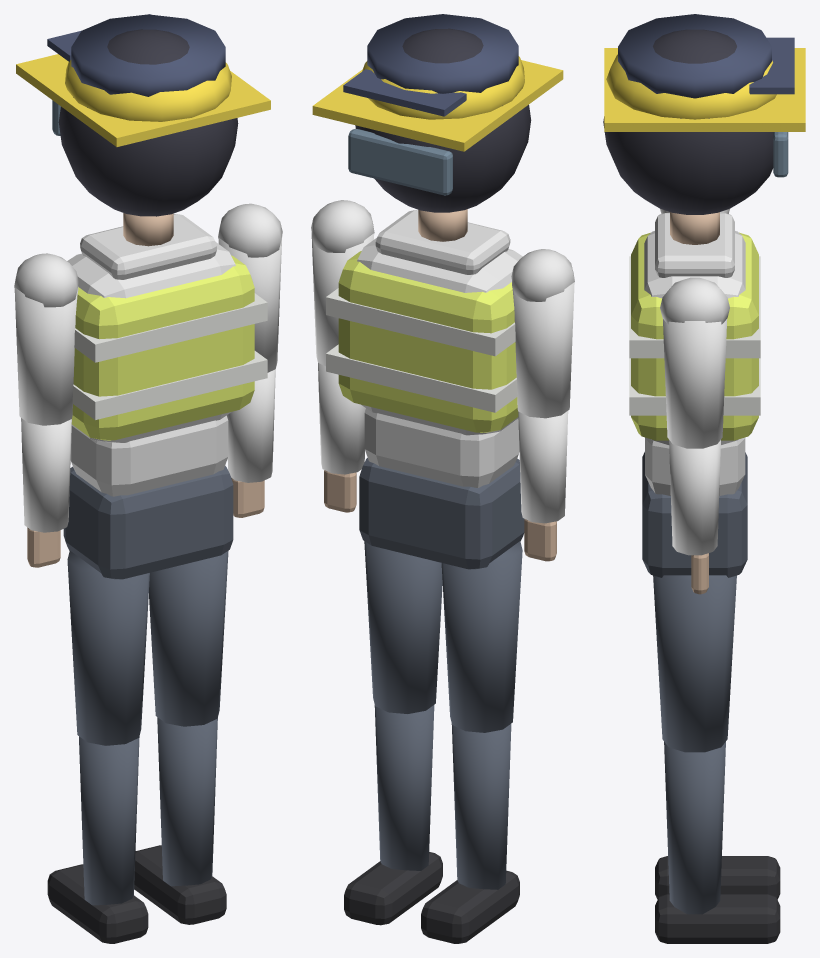
Rendered from RiggedChild.fbx.
3 views of the same model, side by side, from view 1: azimuth 30°, elevation 25°; view 2: azimuth 150°, elevation 25°; view 3: azimuth 270°, elevation 25° (orthographic).
Visible parts, largest first — view 1: RiggedChild_Vest, RiggedChild_Helmet, RiggedChild_Pelvis, RiggedChild_ThighL, RiggedChild_ThighR, RiggedChild_ShinL, RiggedChild_ShinR, RiggedChild_Abdomen_Clothing, RiggedChild_Cap, RiggedChild_UpperArmL_Clothing, RiggedChild_HardHat_Brim, RiggedChild_LowerArmL_Clothing (+14 smaller); view 2: RiggedChild_Vest, RiggedChild_Pelvis, RiggedChild_ThighL, RiggedChild_ThighR, RiggedChild_Helmet, RiggedChild_ShinL, RiggedChild_ShinR, RiggedChild_Abdomen_Clothing, RiggedChild_Cap, RiggedChild_UpperArmL_Clothing, RiggedChild_HardHat_Brim, RiggedChild_LowerArmL_Clothing (+16 smaller); view 3: RiggedChild_Helmet, RiggedChild_ThighR, RiggedChild_ShinR, RiggedChild_Vest, RiggedChild_Cap, RiggedChild_UpperArmR_Clothing, RiggedChild_Pelvis, RiggedChild_HardHat_Brim, RiggedChild_ShoeR, RiggedChild_LowerArmR_Clothing, RiggedChild_HardHat, RiggedChild_Collar_Clothing (+10 smaller).
Part boxes in pixels (bbox=[...]): RiggedChild_Vest: bbox=[71, 255, 254, 440]; RiggedChild_Helmet: bbox=[58, 29, 238, 216]; RiggedChild_Pelvis: bbox=[63, 466, 233, 579]; RiggedChild_ThighL: bbox=[67, 550, 149, 745]; RiggedChild_ThighR: bbox=[149, 550, 228, 726]; RiggedChild_ShinL: bbox=[79, 736, 139, 905]; RiggedChild_ShinR: bbox=[157, 717, 217, 886]; RiggedChild_Abdomen_Clothing: bbox=[70, 415, 228, 496]; RiggedChild_Cap: bbox=[71, 14, 225, 96]; RiggedChild_UpperArmL_Clothing: bbox=[14, 286, 78, 425]; RiggedChild_HardHat_Brim: bbox=[16, 54, 270, 146]; RiggedChild_LowerArmL_Clothing: bbox=[21, 418, 71, 532]; RiggedChild_Vest: bbox=[338, 251, 518, 432]; RiggedChild_Pelvis: bbox=[359, 458, 524, 569]; RiggedChild_ThighL: bbox=[441, 541, 522, 732]; RiggedChild_ThighR: bbox=[364, 541, 442, 713]; RiggedChild_Helmet: bbox=[355, 28, 531, 212]; RiggedChild_ShinL: bbox=[451, 724, 511, 889]; RiggedChild_ShinR: bbox=[374, 705, 434, 870]; RiggedChild_Abdomen_Clothing: bbox=[364, 408, 519, 487]; RiggedChild_Cap: bbox=[367, 14, 518, 93]; RiggedChild_UpperArmL_Clothing: bbox=[512, 281, 574, 418]; RiggedChild_HardHat_Brim: bbox=[312, 60, 563, 151]; RiggedChild_LowerArmL_Clothing: bbox=[518, 411, 568, 523]; RiggedChild_Helmet: bbox=[603, 29, 773, 214]; RiggedChild_ThighR: bbox=[653, 575, 736, 752]; RiggedChild_ShinR: bbox=[664, 741, 725, 914]; RiggedChild_Vest: bbox=[631, 232, 758, 440]; RiggedChild_Cap: bbox=[618, 14, 771, 98]; RiggedChild_UpperArmR_Clothing: bbox=[663, 319, 727, 448]; RiggedChild_Pelvis: bbox=[642, 452, 747, 577]; RiggedChild_HardHat_Brim: bbox=[604, 48, 805, 131]; RiggedChild_ShoeR: bbox=[655, 894, 780, 943]; RiggedChild_LowerArmR_Clothing: bbox=[669, 440, 720, 555]; RiggedChild_HardHat: bbox=[606, 54, 776, 119]; RiggedChild_Collar_Clothing: bbox=[655, 213, 734, 277].
Bounding box in the file's own units: 0.5916 × 1.94 × 0.4035.
